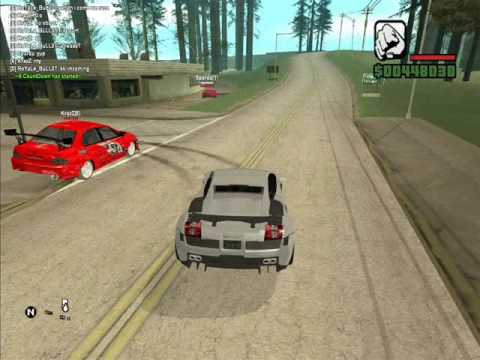car: (173, 169, 303, 277), (11, 115, 142, 175)
